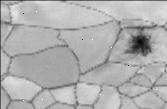good_void: (124, 30, 153, 56)
